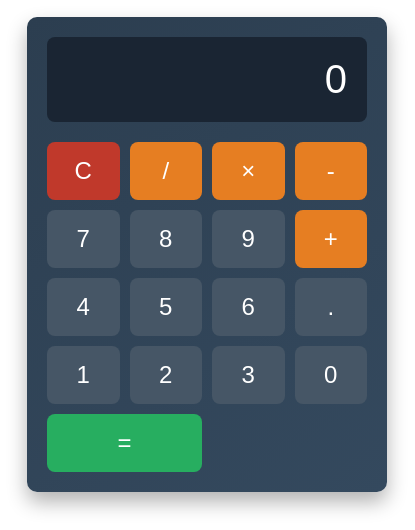
Test: Calculator Tests › should perform addition correctly
Click the button "2".
click(167, 375)  # box top-left (130, 346), bottom-right (203, 404)
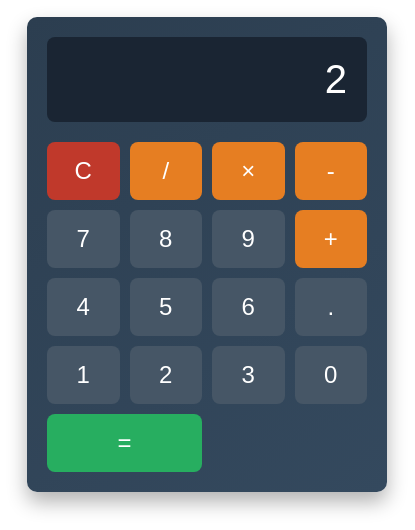
Click the button "+".
click(332, 239)  # box top-left (295, 210), bottom-right (368, 268)
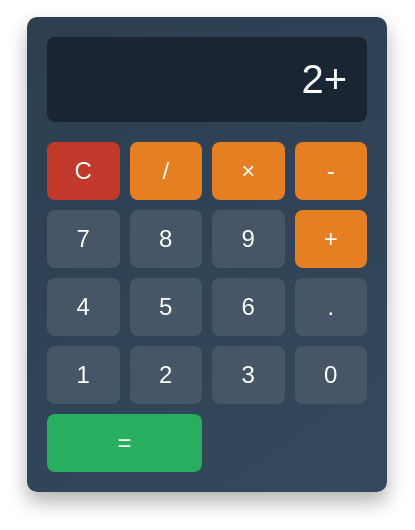
Click the button "3".
click(249, 375)  # box top-left (212, 346), bottom-right (285, 404)
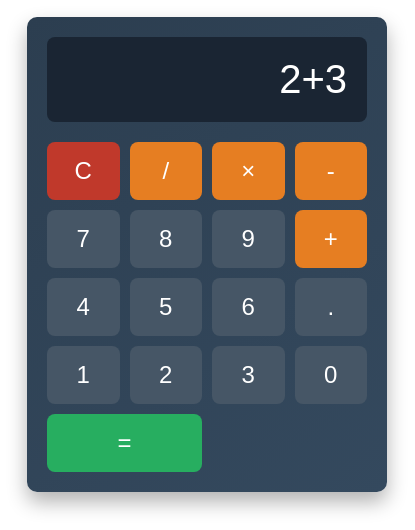
Click the button "=".
click(125, 443)  # box top-left (47, 414), bottom-right (202, 472)
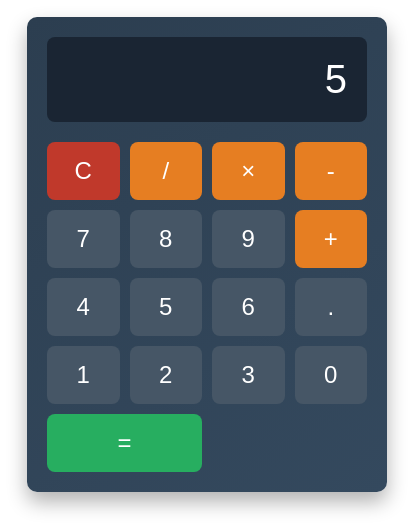
Result: the text with class "display" reads "5" at top-left (47, 37), bottom-right (367, 122)
